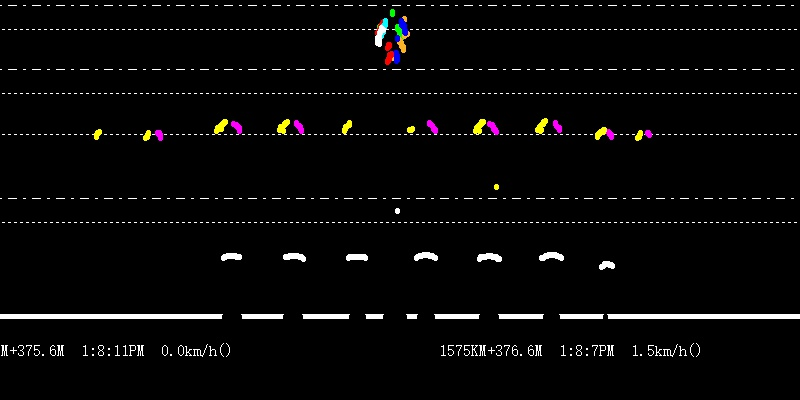J: (369, 17, 413, 66)
first: (386, 1, 402, 21)
y_p: (202, 109, 576, 276)
